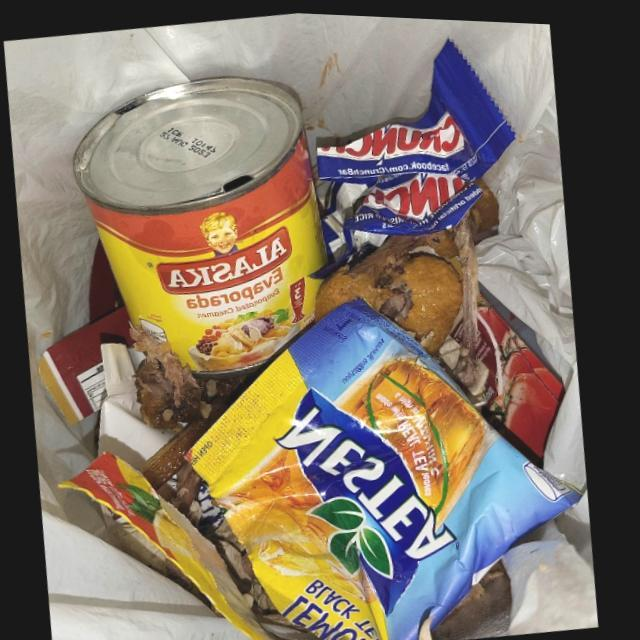biowaste: (318, 225, 469, 352), (133, 327, 222, 428), (454, 203, 494, 392)
metal: (75, 75, 331, 376)
wrapper: (193, 296, 589, 640), (314, 35, 519, 277), (64, 451, 289, 640), (480, 277, 570, 459)
